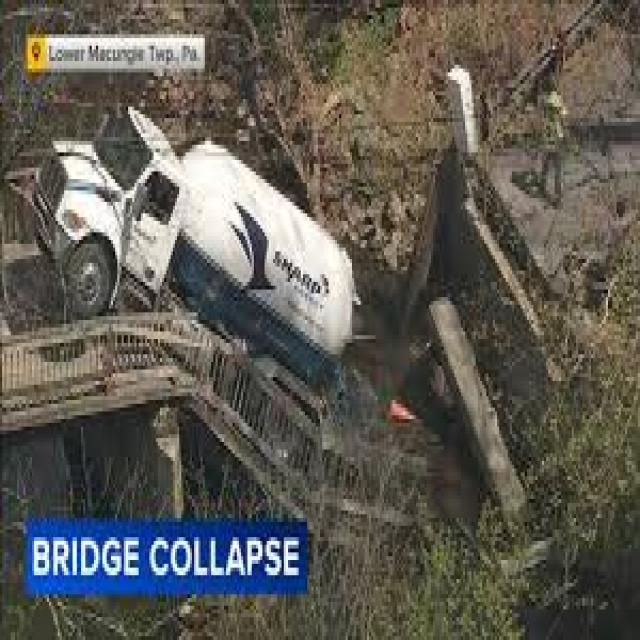bridge collapse: (65, 53, 640, 596)
